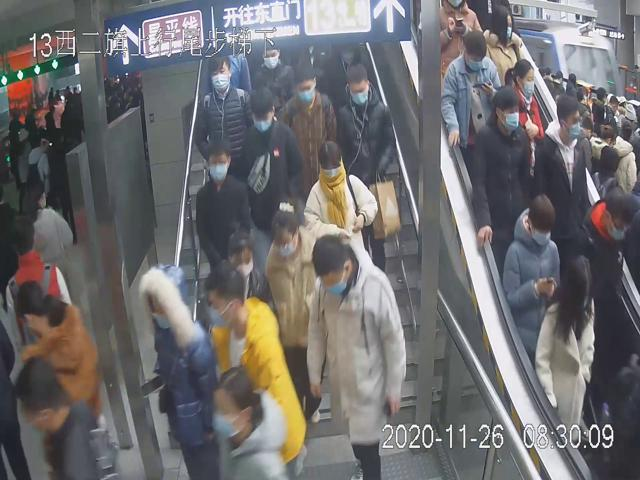person: (308, 236, 404, 480), (201, 259, 307, 474), (137, 262, 219, 480), (264, 198, 331, 425), (337, 62, 401, 269), (472, 82, 532, 278), (238, 88, 303, 262), (303, 139, 378, 279), (502, 189, 564, 356), (275, 65, 336, 188), (195, 137, 251, 265), (196, 49, 253, 168), (220, 217, 277, 335)
